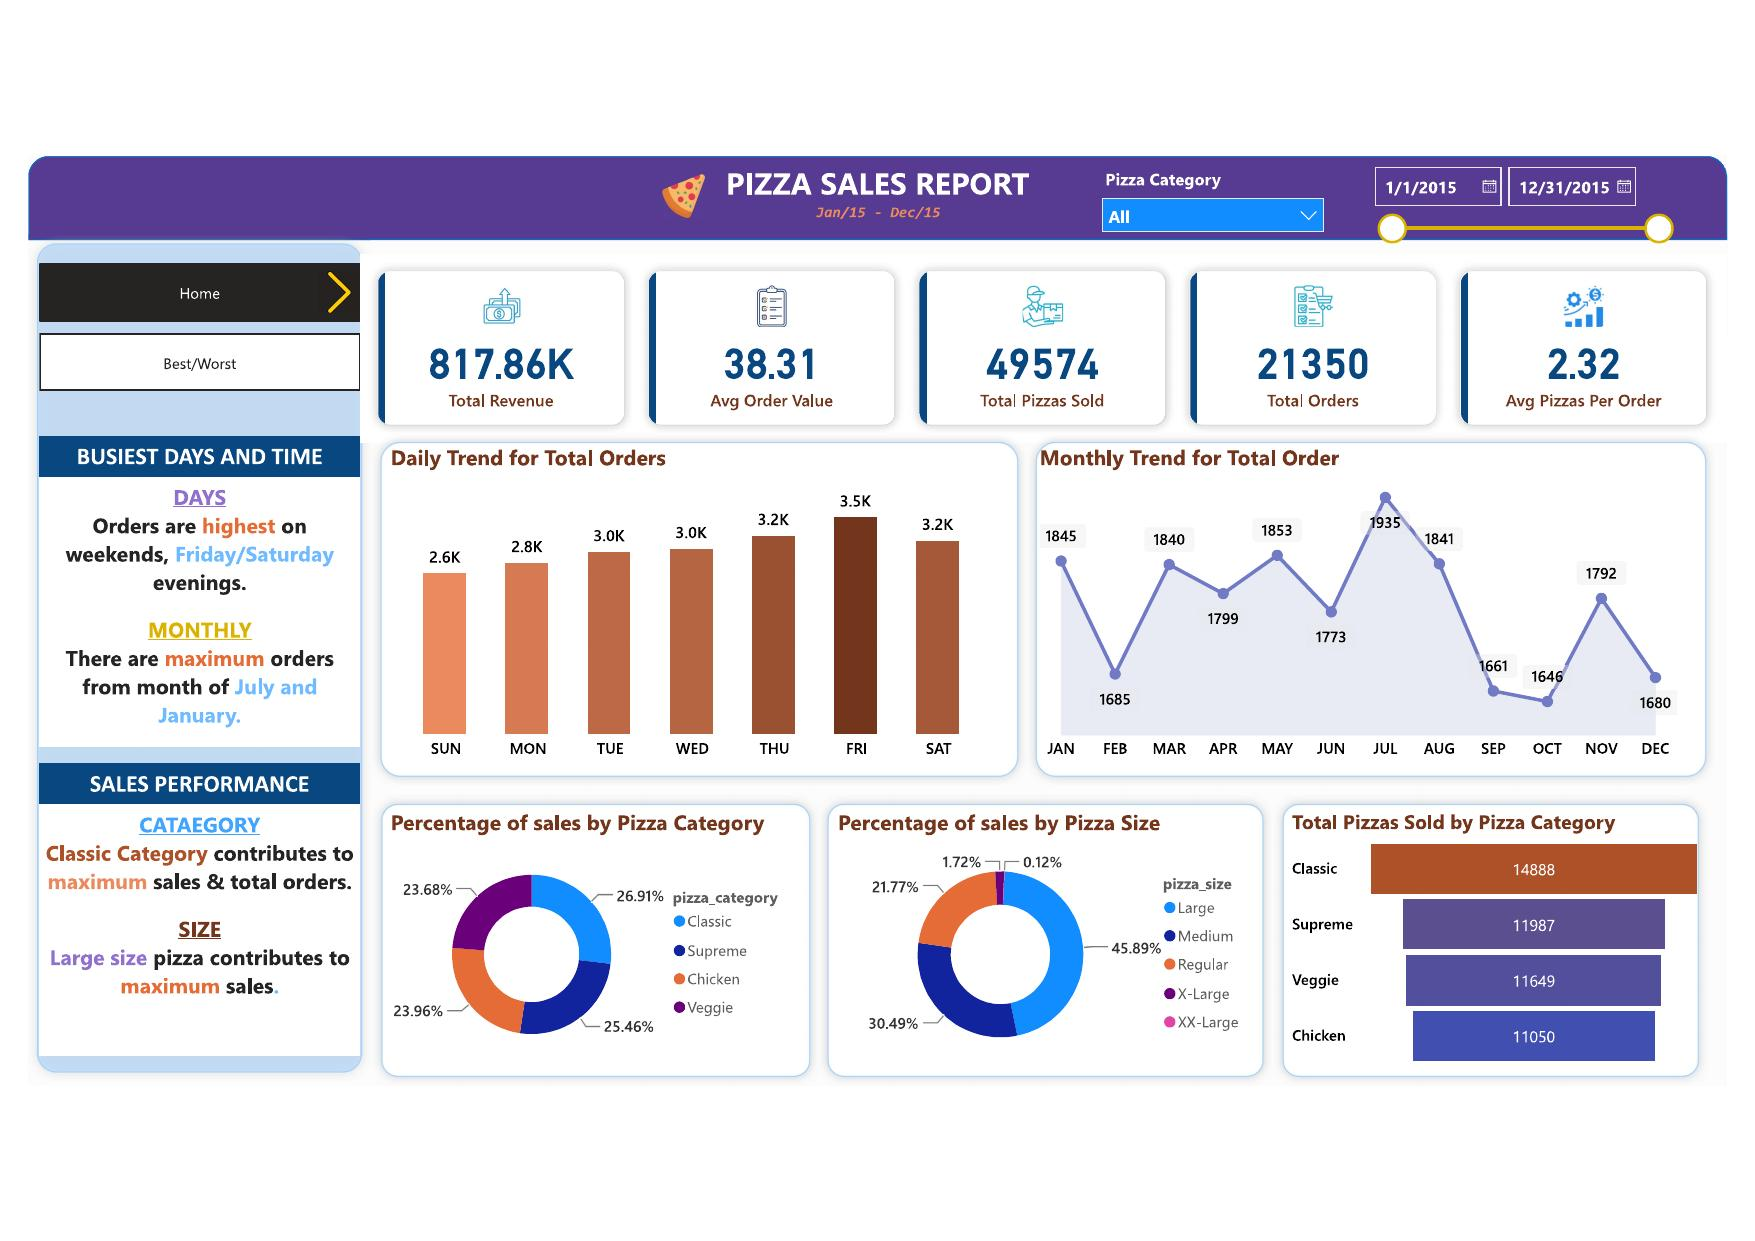

This screenshot's page, from the dashboard's own definition file:
{"tool":"powerbi","page":{"name":"Home","canvas":[1500,820],"ordinal":0},"visuals":[{"type":"shape","box":[0,0,1500.3,73.6],"z":0},{"type":"shape","box":[0,69.5,302.5,746.7],"z":1000},{"type":"cardVisual","fields":{"Data":["pizza_sales.Total Revenue","pizza_sales.Avg Order Value","pizza_sales.Total Pizzas Sold","pizza_sales.Total Orders","pizza_sales.Avg Pizzas Per Order"]},"box":[293,85.8,1207.3,167.6],"z":2000},{"type":"textbox","box":[600.9,0,298.4,51.8],"z":3000},{"type":"image","box":[554.6,16.4,46.3,38.2],"z":4000},{"type":"textbox","box":[682.1,34.9,137.2,33.7],"z":5000},{"type":"shape","box":[302.5,243.9,579.1,310.7],"z":6000},{"type":"columnChart","title":"Daily Trend for Total Orders ","fields":{"Category":["pizza_sales.Order Day"],"Y":["pizza_sales.Total Orders"]},"box":[314.8,253.5,543.7,288.9],"z":7000},{"type":"shape","box":[881.6,243.9,607.7,310.7],"z":8000},{"type":"areaChart","title":"Monthly Trend for Total Order","fields":{"Category":["pizza_sales.Order Month"],"Y":["pizza_sales.Total Orders"]},"box":[888.4,253.5,572.3,288.9],"z":9000},{"type":"shape","box":[303.9,564.1,393.8,256.2],"z":10000},{"type":"shape","box":[697.7,564.1,400.6,256.2],"z":11000},{"type":"shape","box":[1099.7,564.1,382.9,256.2],"z":12000},{"type":"donutChart","title":"Percentage of sales by Pizza Category","fields":{"Category":["pizza_sales.pizza_category"],"Y":["pizza_sales.Total Revenue"]},"box":[314.8,575,367.9,234.4],"z":13000},{"type":"donutChart","title":"Percentage of sales by Pizza Size","fields":{"Y":["pizza_sales.Total Revenue"],"Category":["pizza_sales.pizza_size"]},"box":[709.9,575,377.5,234.4],"z":14000},{"type":"funnel","title":"Total Pizzas Sold by Pizza Category","fields":{"Category":["pizza_sales.pizza_category"],"Y":["pizza_sales.Total Pizzas Sold"]},"box":[1110.6,575,372,234.4],"z":15000},{"type":"textbox","box":[9.5,246.6,283.4,36.8],"z":16000},{"type":"textbox","box":[9.5,283.4,283.4,238.5],"z":17000},{"type":"textbox","box":[9.5,535.5,283.4,36.8],"z":18000},{"type":"textbox","box":[9.5,572.3,283.4,222.1],"z":19000},{"type":"slicer","fields":{"Values":["pizza_sales.pizza_category"]},"box":[937.5,5.5,216.7,61.3],"z":20000},{"type":"slicer","fields":{"Values":["pizza_sales.order_date"]},"box":[1176,0,284.8,85.8],"z":21000},{"type":"pageNavigator","box":[9.5,95.4,283.4,50.4],"z":22000},{"type":"pageNavigator","box":[9.5,156.7,283.4,50.4],"z":23000},{"type":"image","box":[256.2,102.2,36.8,36.8],"z":24000}]}

Visuals, with their boxes on the page's 1500x820 design canvas (x1, y1, x2, y2). These are canvas units, not pixel positions in the 1755x1241 screenshot, which may show the page scaled, cropped or inside an application window:
shape: box(0, 0, 1500, 74)
shape: box(0, 70, 302, 816)
cardVisual - pizza_sales.Total Revenue x pizza_sales.Avg Order Value: box(293, 86, 1500, 253)
textbox: box(601, 0, 899, 52)
image: box(555, 16, 601, 55)
textbox: box(682, 35, 819, 69)
shape: box(302, 244, 882, 555)
"Daily Trend for Total Orders " columnChart: box(315, 254, 858, 542)
shape: box(882, 244, 1489, 555)
"Monthly Trend for Total Order" areaChart: box(888, 254, 1461, 542)
shape: box(304, 564, 698, 820)
shape: box(698, 564, 1098, 820)
shape: box(1100, 564, 1483, 820)
"Percentage of sales by Pizza Category" donutChart: box(315, 575, 683, 809)
"Percentage of sales by Pizza Size" donutChart: box(710, 575, 1087, 809)
"Total Pizzas Sold by Pizza Category" funnel: box(1111, 575, 1483, 809)
textbox: box(10, 247, 293, 283)
textbox: box(10, 283, 293, 522)
textbox: box(10, 536, 293, 572)
textbox: box(10, 572, 293, 794)
slicer - pizza_sales.pizza_category: box(938, 6, 1154, 67)
slicer - pizza_sales.order_date: box(1176, 0, 1461, 86)
pageNavigator: box(10, 95, 293, 146)
pageNavigator: box(10, 157, 293, 207)
image: box(256, 102, 293, 139)
